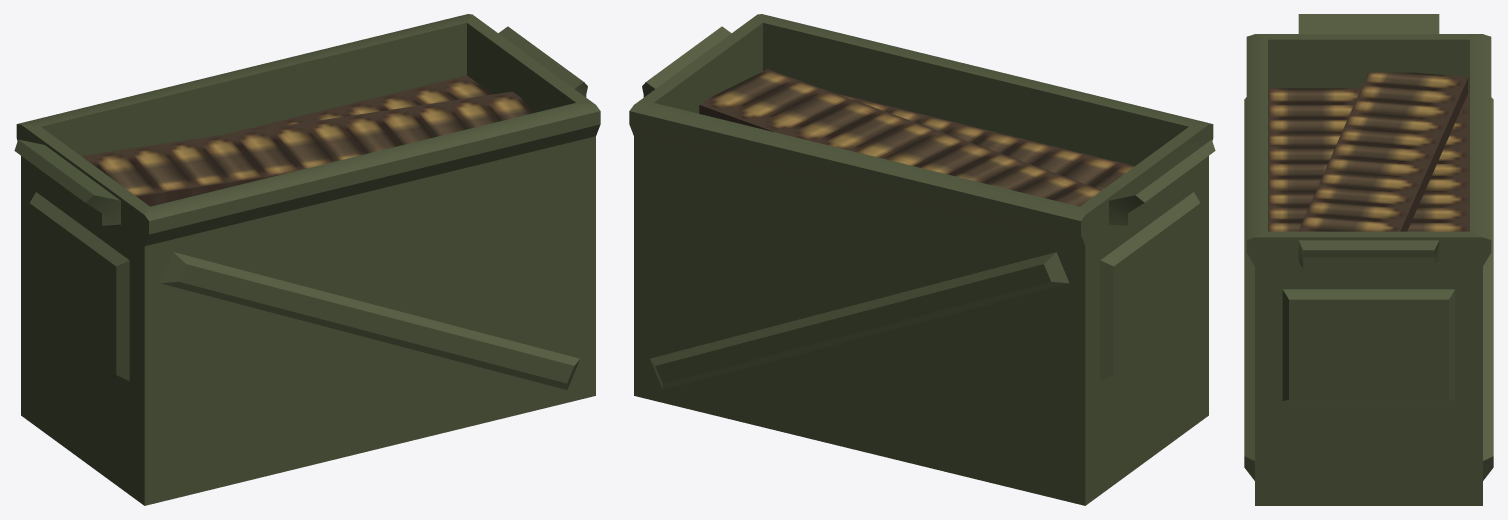
The model's file is SM_Prop_AmmoBox_03.fbx.
3 renders of one model, left to right at view 1: azimuth 30°, elevation 25°; view 2: azimuth 150°, elevation 25°; view 3: azimuth 270°, elevation 25°, orthographic. The views are drawn at different scales.
Parts seen in each view (by area): view 1: SM_Prop_AmmoBox_03; view 2: SM_Prop_AmmoBox_03; view 3: SM_Prop_AmmoBox_03.
Part boxes in pixels (x1,y1,x2,y2): SM_Prop_AmmoBox_03: [14, 14, 600, 505]; SM_Prop_AmmoBox_03: [629, 14, 1215, 505]; SM_Prop_AmmoBox_03: [1244, 14, 1493, 505].
Bounding box in the file's own units: 52.38 × 29.85 × 24.4.
